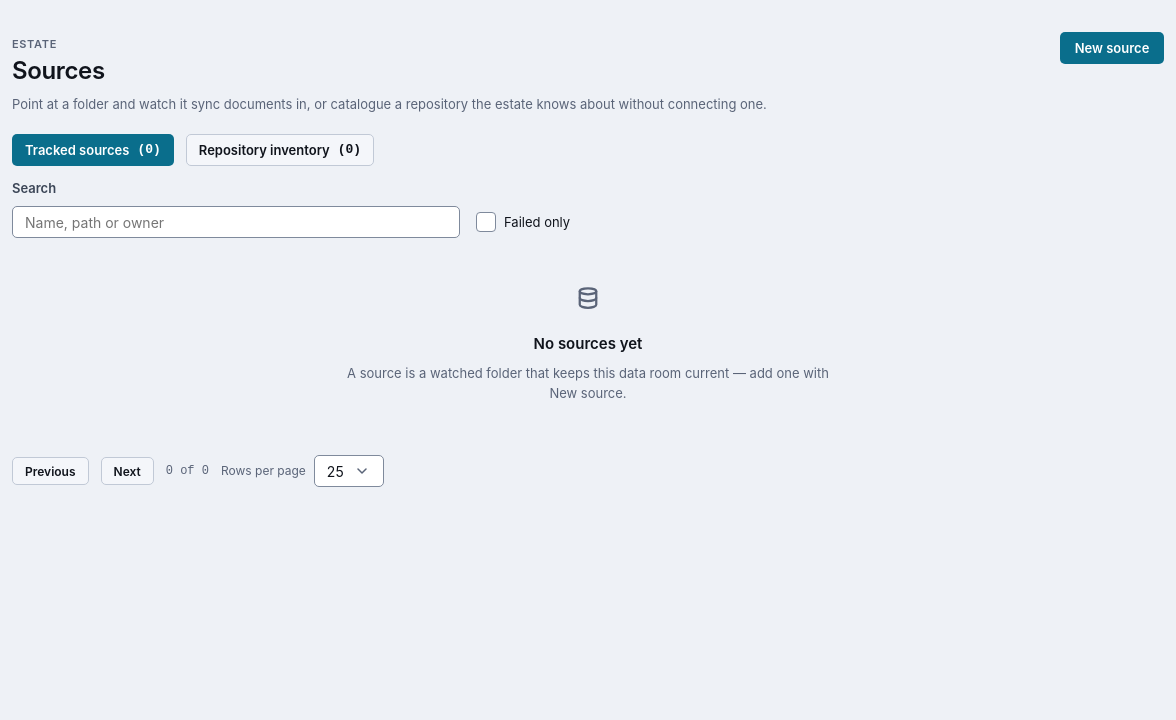
Test: SourcesPage › switches to the repository inventory view, updating aria-pressed and showing its own empty state
Expected: the text "No sources yet" is shown, [534,332,642,355]
Click the button "Repository inventory (0)".
click(280, 150)  # box [186,134,374,166]
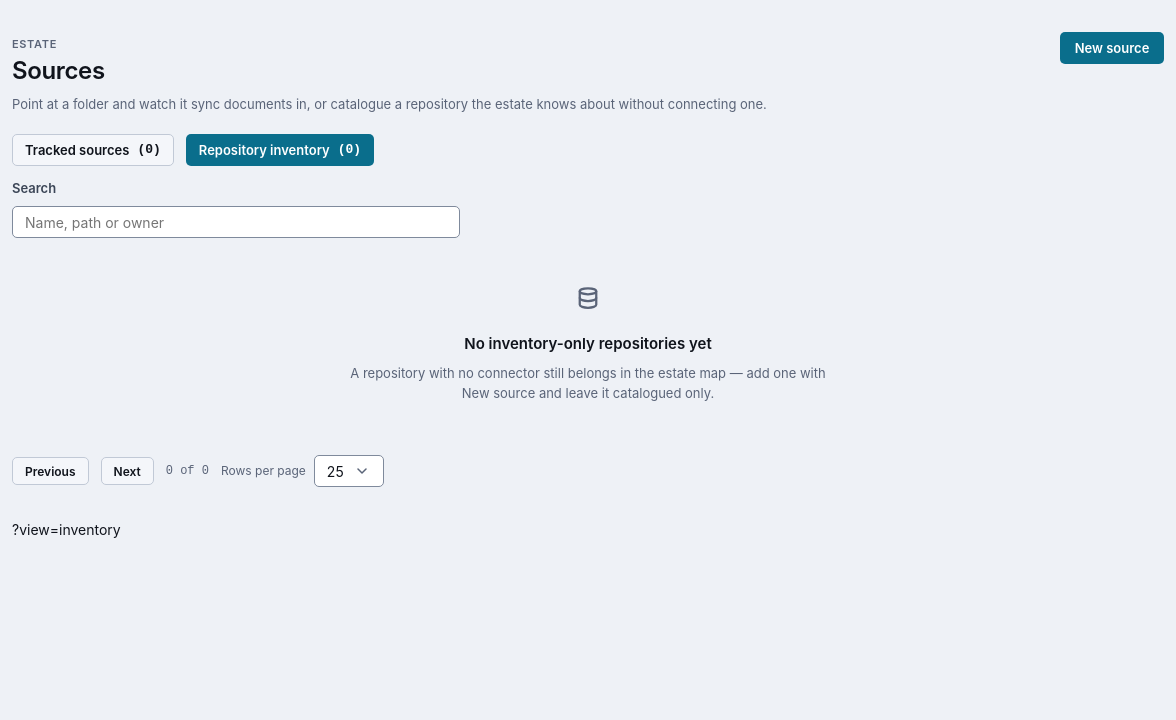
Now the text "No inventory-only repositories yet" is shown, box [464,332,712,355]
Now the text "No sources yet" is gone
